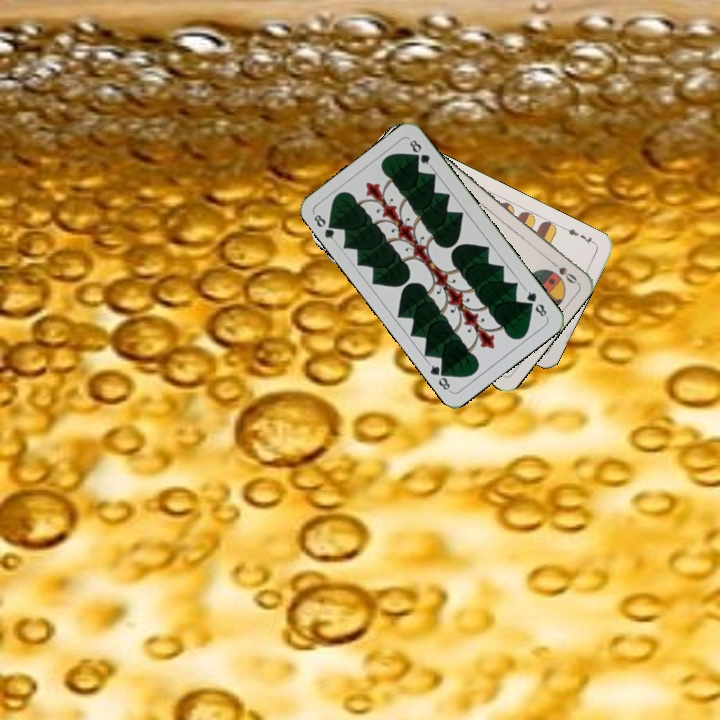E7: (560, 223, 598, 247)
G8: (521, 285, 550, 320), (310, 210, 339, 245)
SO: (545, 256, 580, 286)
